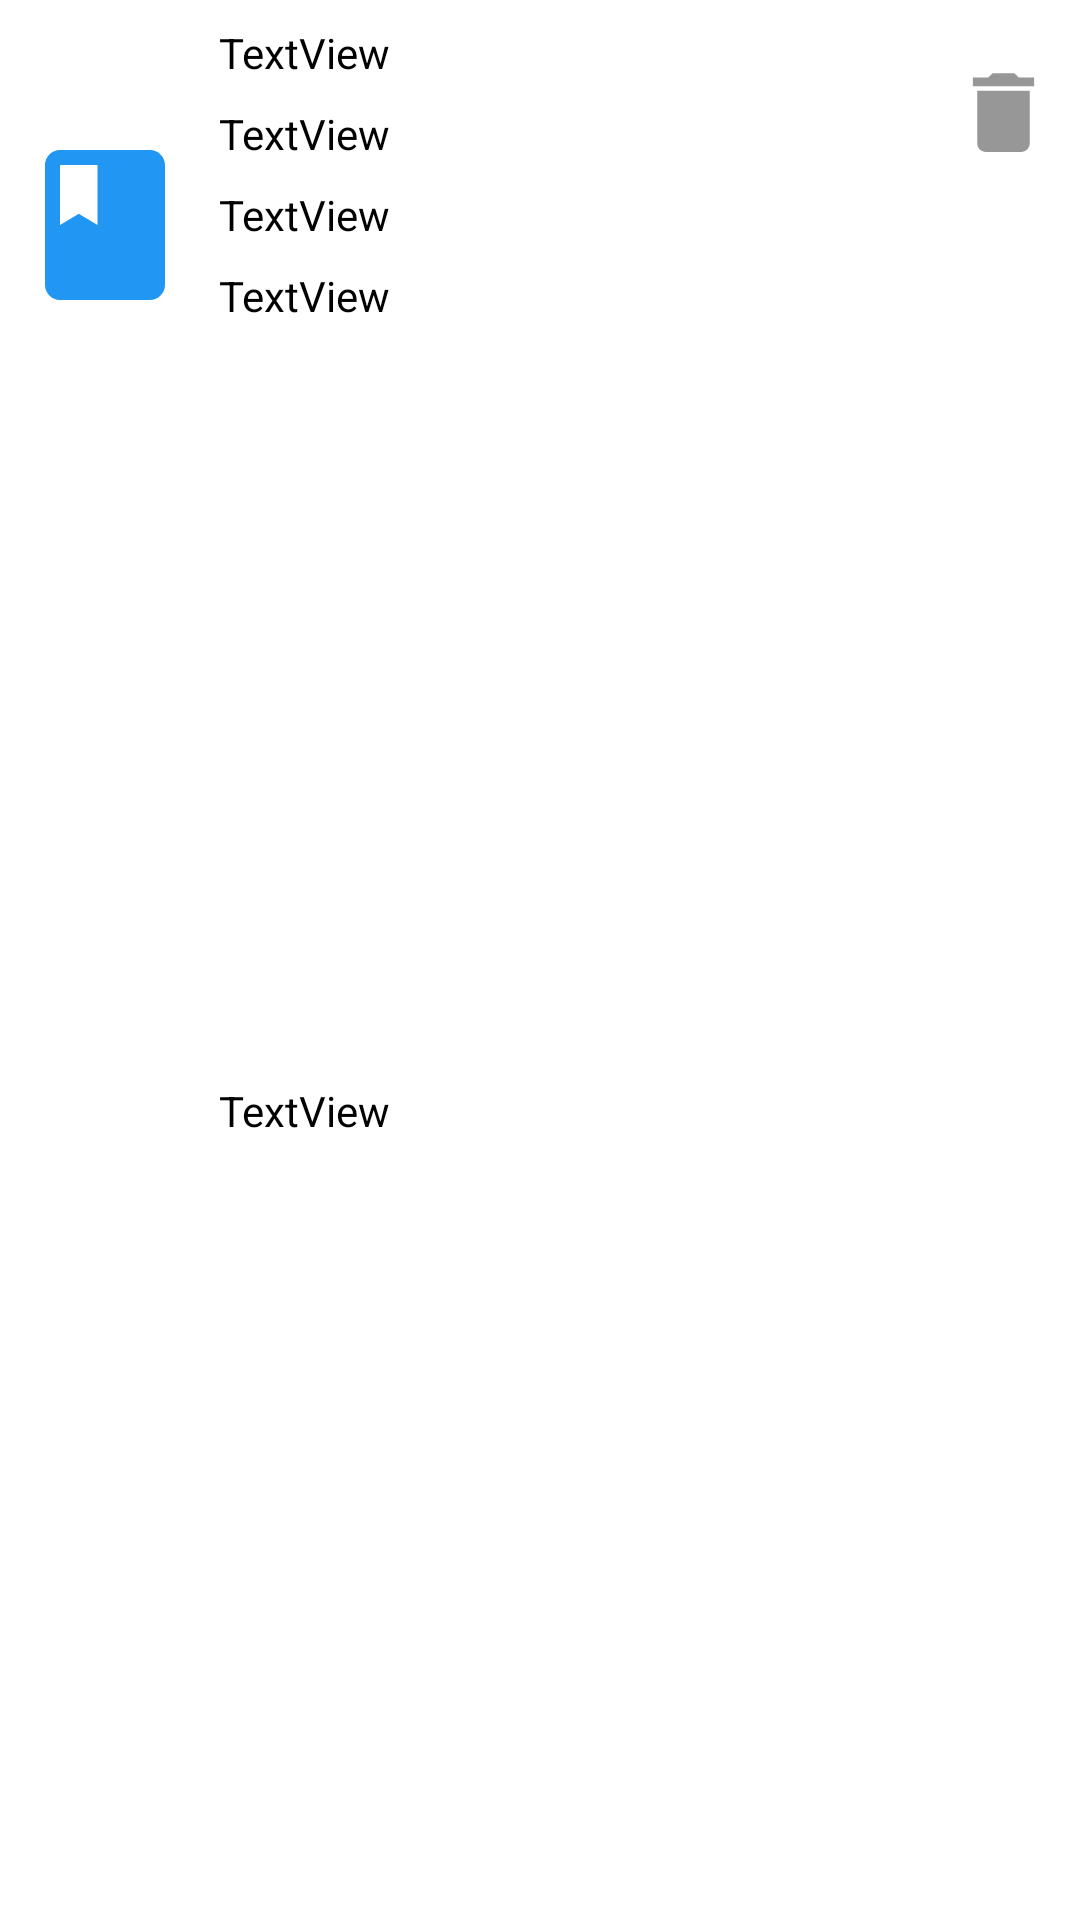

Icon bounding boxes for this 1080px×1920px phone screenshot, format (x1, y1, x2, y2):
book: (45, 150, 165, 300)
delete: (973, 73, 1034, 152)
